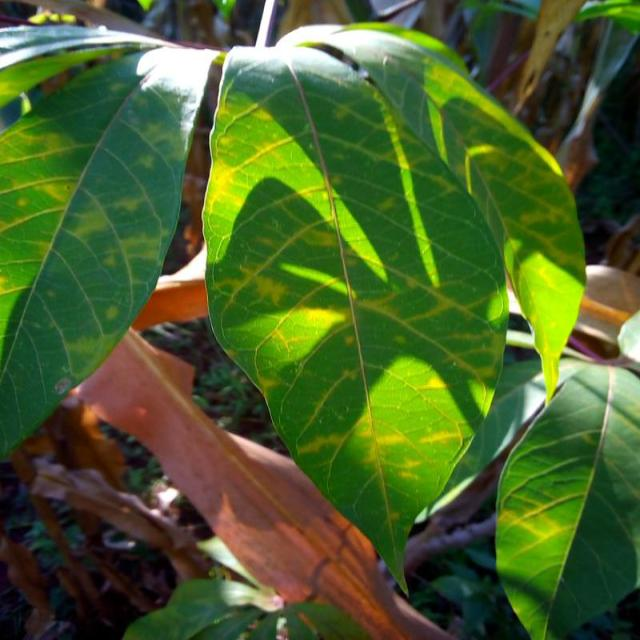cassava leaf: (200, 35, 512, 596), (274, 21, 587, 404), (0, 41, 218, 463), (494, 360, 639, 638)
